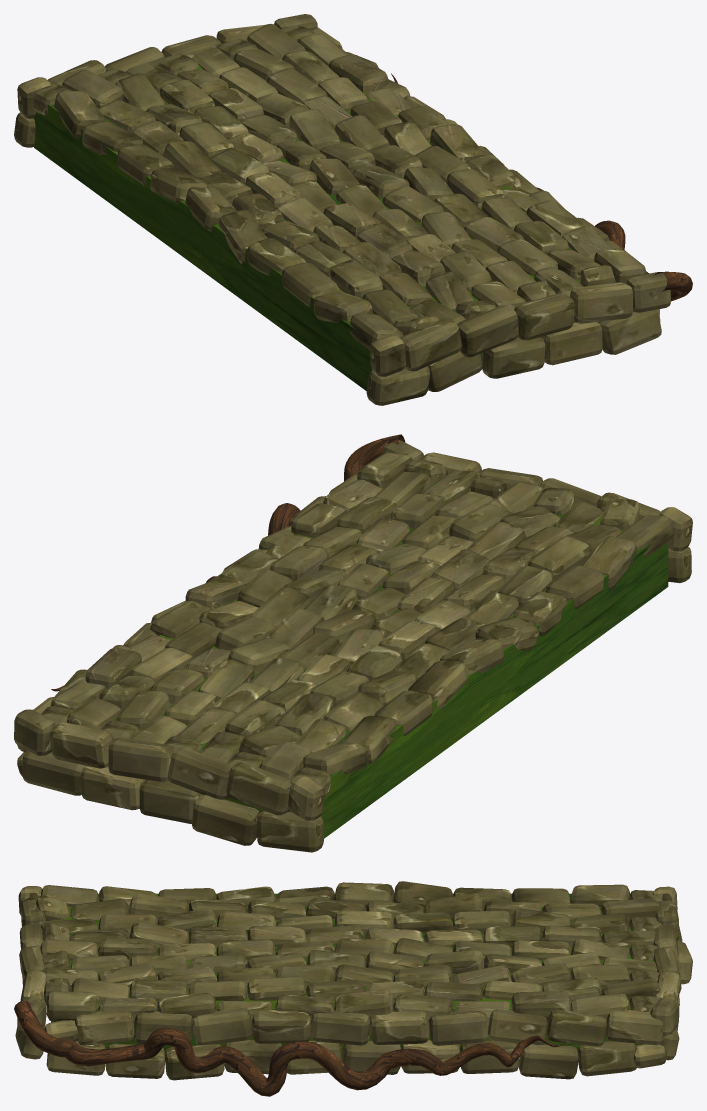
Rendered from plataforma grande.fbx.
3 views of the same model, one above another, from view 1: azimuth 30°, elevation 25°; view 2: azimuth 150°, elevation 25°; view 3: azimuth 270°, elevation 25° (orthographic). The views are drawn at different scales.
Parts seen in each view (by area): view 1: tijolos.002, tijolos.001, Cube, galhos.002; view 2: tijolos.002, tijolos.001, Cube, galhos.002; view 3: tijolos.002, tijolos.001, galhos.002, Cube.
Part boxes in pixels (x1,y1,x2,y2): tijolos.002: (33, 24, 646, 350); tijolos.001: (14, 14, 670, 405); Cube: (34, 59, 617, 391); galhos.002: (391, 73, 692, 301); tijolos.002: (41, 452, 674, 797); tijolos.001: (14, 440, 692, 852); Cube: (113, 482, 668, 838); galhos.002: (51, 434, 405, 691); tijolos.002: (36, 881, 662, 1025); tijolos.001: (15, 886, 692, 1080); galhos.002: (14, 1001, 565, 1096); Cube: (51, 893, 653, 1054).
Bounding box in the file's own units: 1267 × 354 × 2560.
3 materials, 3 textured.
